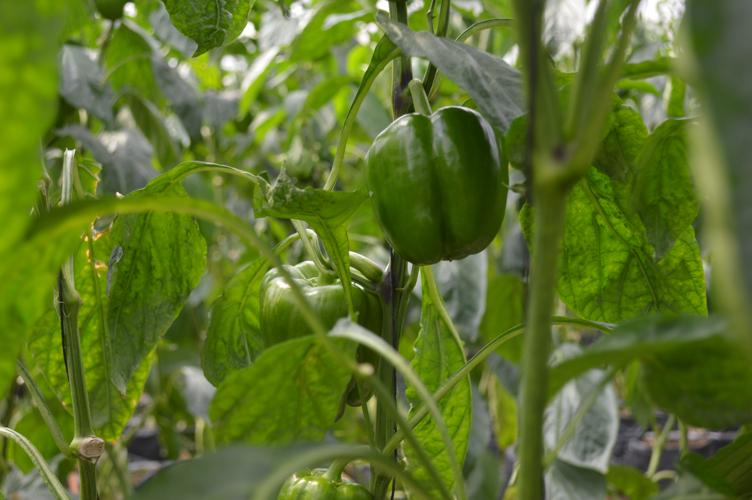BellPepper: (370, 107, 506, 266), (262, 260, 390, 407)
